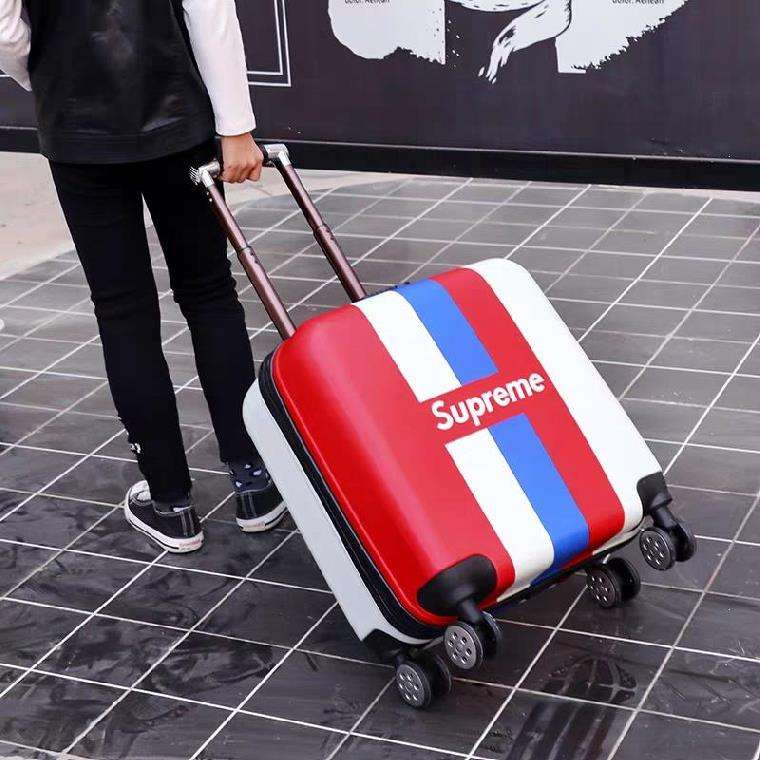box: (243, 257, 674, 662)
wheel: (443, 612, 505, 672), (395, 649, 454, 709), (638, 517, 697, 570), (585, 557, 642, 608)
